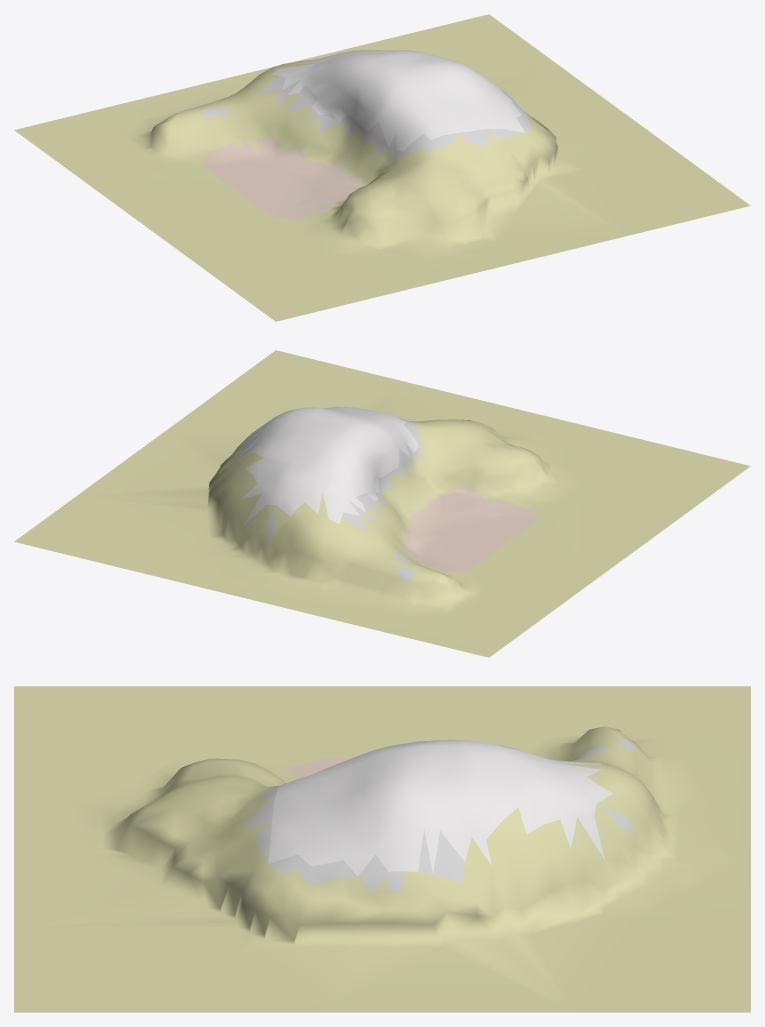
The model's file is HugeMountain.fbx.
3 renders of one model, top to bottom at view 1: azimuth 30°, elevation 25°; view 2: azimuth 150°, elevation 25°; view 3: azimuth 270°, elevation 25°, orthographic. The views are drawn at different scales.
Visible parts, largest first — view 1: HugeMountain; view 2: HugeMountain; view 3: HugeMountain.
Boxes of the visible parts, <box> form: HugeMountain: <box>14,14,750,321</box>; HugeMountain: <box>14,350,750,657</box>; HugeMountain: <box>14,686,750,1012</box>.
Size of the model in its own units: 103 by 17.33 by 98.44.
